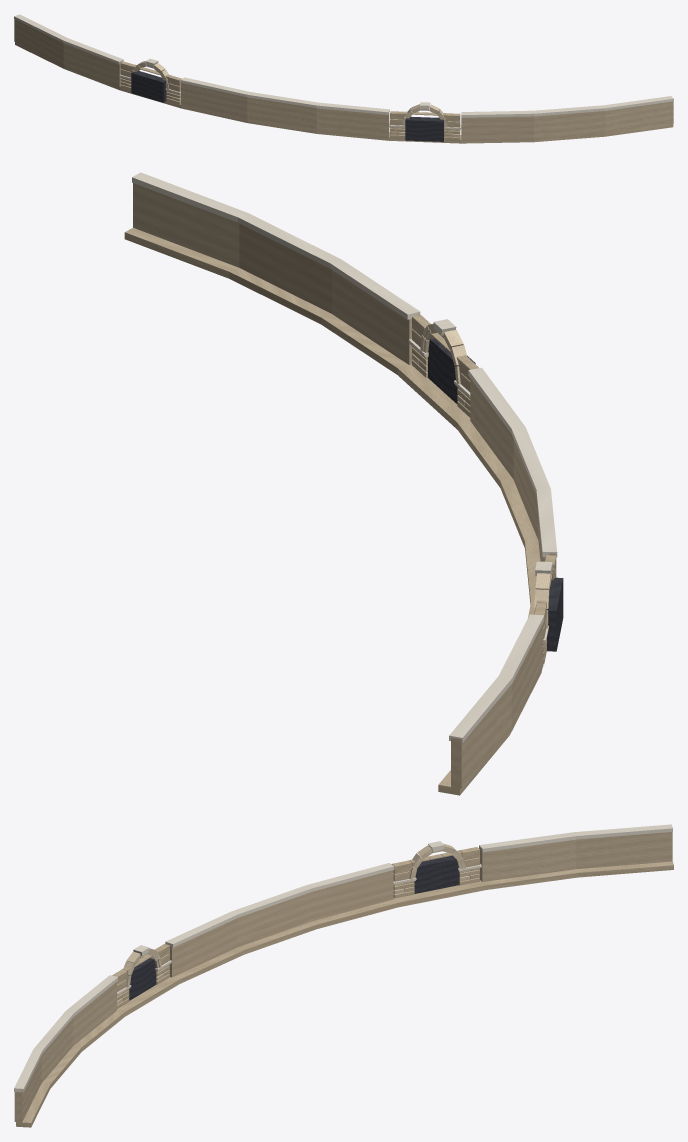
File: COL_Vomitoria_Q2.obj
3 renders of one model, top to bottom at view 1: azimuth 30°, elevation 25°; view 2: azimuth 150°, elevation 25°; view 3: azimuth 270°, elevation 25°, orthographic. The views are drawn at different scales.
Parts seen in each view (by area): view 1: COL_Vomitoria_Q2; view 2: COL_Vomitoria_Q2; view 3: COL_Vomitoria_Q2.
Boxes of the visible parts, x1,y1,x2,y2 form: COL_Vomitoria_Q2: (14, 14, 673, 143); COL_Vomitoria_Q2: (124, 172, 563, 795); COL_Vomitoria_Q2: (14, 824, 673, 1127).
Size of the model in its own units: 97.89 by 8.56 by 103.
Materials: 4 (4 with a texture image).
